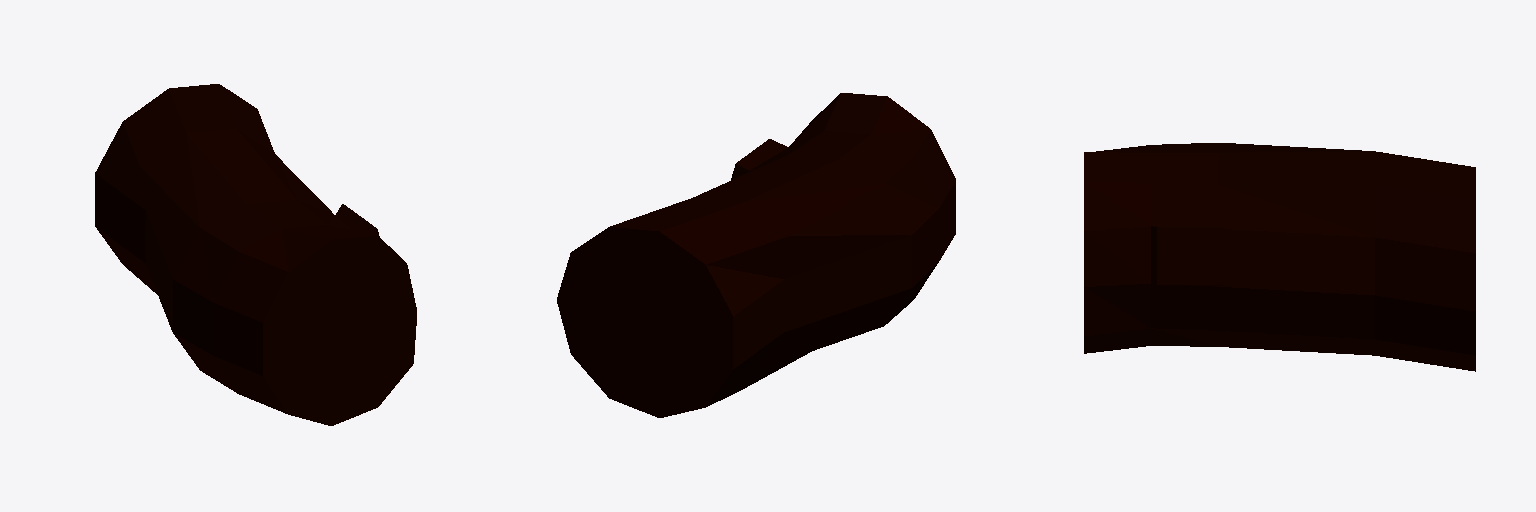
Rendered from log.obj.
The picture shows the model from 3 angles: view 1: azimuth 30°, elevation 25°; view 2: azimuth 150°, elevation 25°; view 3: azimuth 270°, elevation 25°; orthographic projection.
Parts seen in each view (by area): view 1: pCylinder1; view 2: pCylinder1; view 3: pCylinder1.
Boxes of the visible parts, x1,y1,x2,y2 form: pCylinder1: [95, 84, 416, 425]; pCylinder1: [557, 93, 955, 417]; pCylinder1: [1084, 143, 1475, 371].
Size of the model in its own units: 2.52 by 1.98 by 3.75.